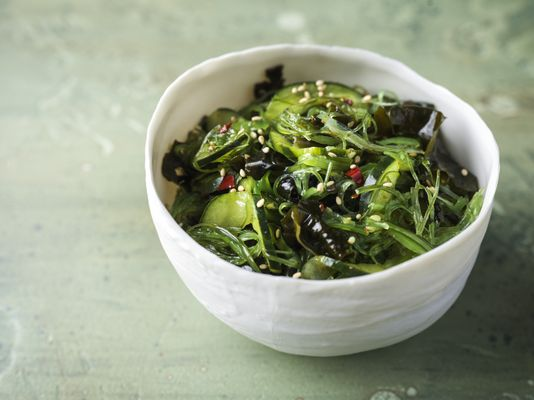sushi: (144, 40, 503, 358)
